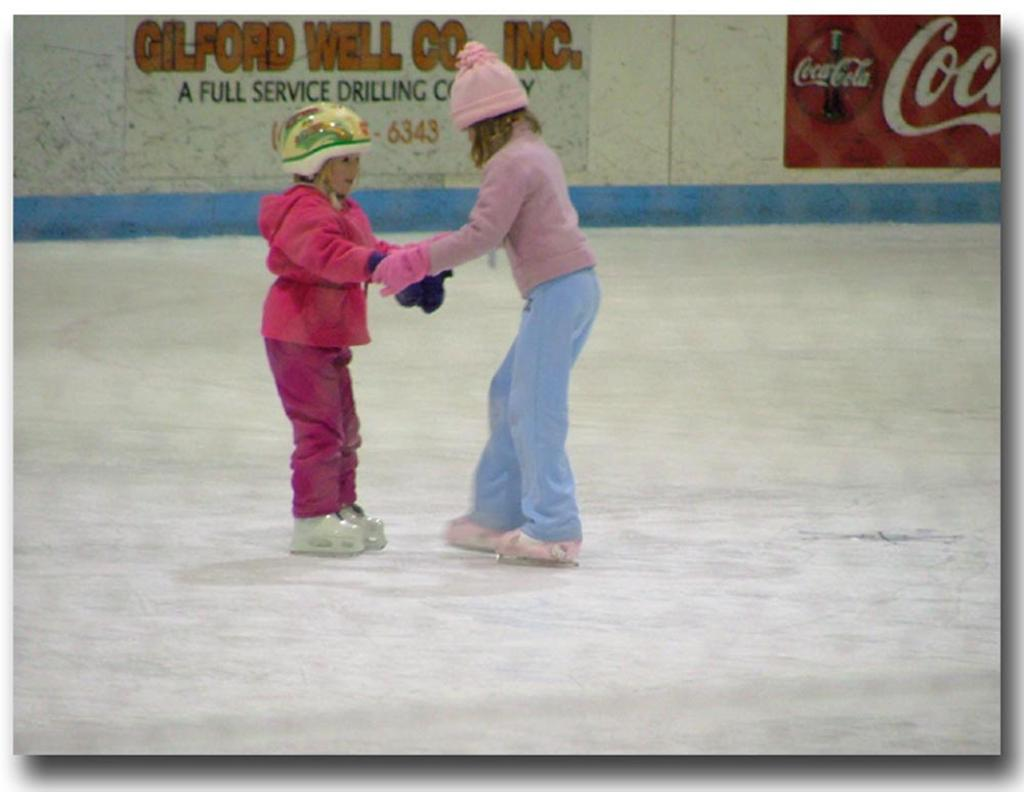face: (325, 145, 362, 193)
